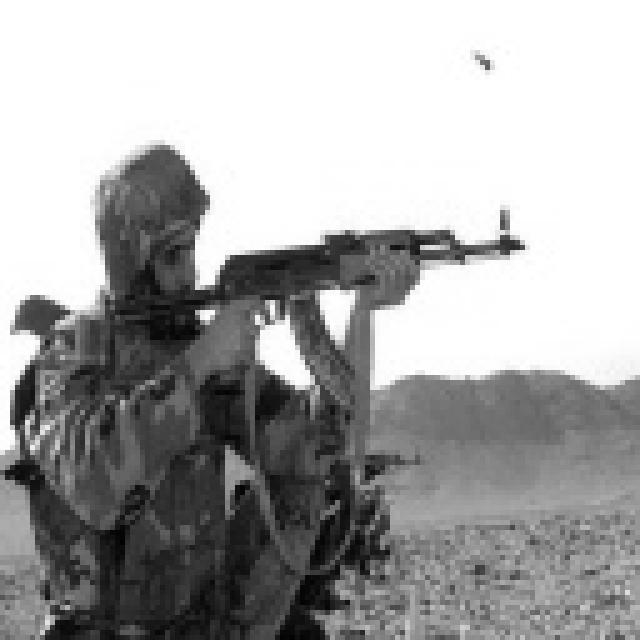Rifle: (78, 191, 572, 596)
